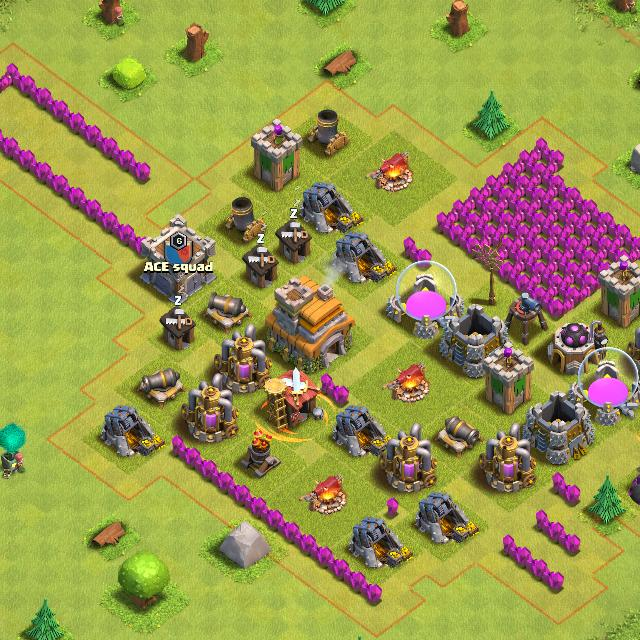Arqueira: (248, 120, 300, 190), (482, 344, 532, 412), (601, 258, 640, 326)
Canhao: (140, 362, 186, 408), (436, 412, 482, 455), (208, 290, 254, 330)
